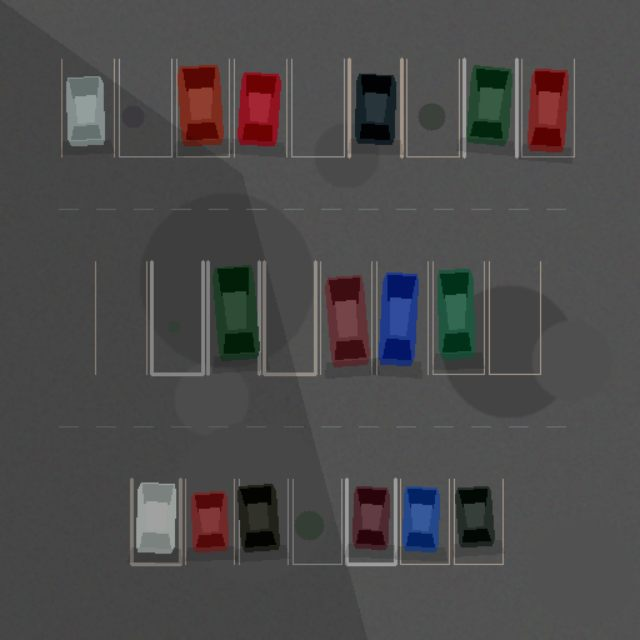space-empty: (95, 261, 146, 374), (151, 261, 202, 374), (264, 261, 315, 374), (489, 261, 540, 374), (291, 59, 344, 156), (406, 59, 459, 156), (119, 59, 171, 156), (292, 479, 341, 564)
space-occupied: (376, 261, 428, 374), (432, 261, 484, 374), (208, 261, 259, 374), (320, 261, 371, 374), (61, 59, 114, 156), (176, 59, 229, 156), (521, 59, 574, 156), (234, 59, 286, 156), (349, 59, 401, 156), (464, 59, 516, 156), (131, 479, 180, 564), (185, 479, 234, 564), (239, 479, 288, 564), (346, 479, 395, 564), (400, 479, 449, 564), (454, 479, 502, 564)
